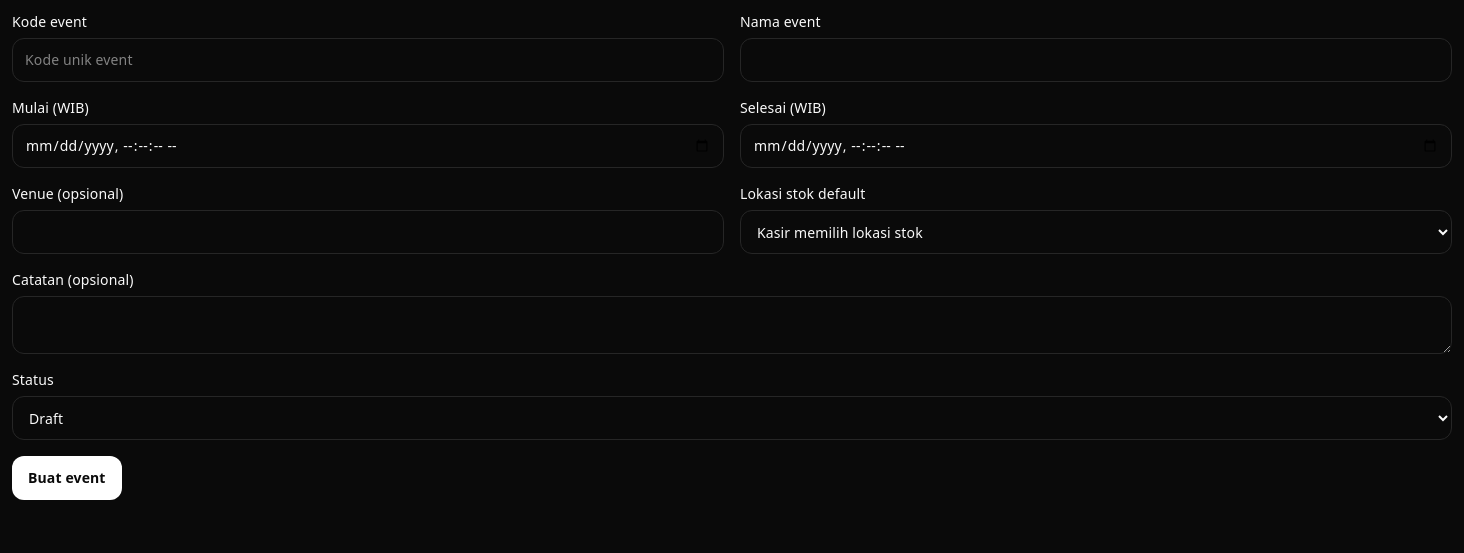
Test: sales event interfaces › creates an event and displays actual success feedback
Type "BAZAR" into the field labelled "Kode event" at (368, 60), box [12, 38, 724, 82]
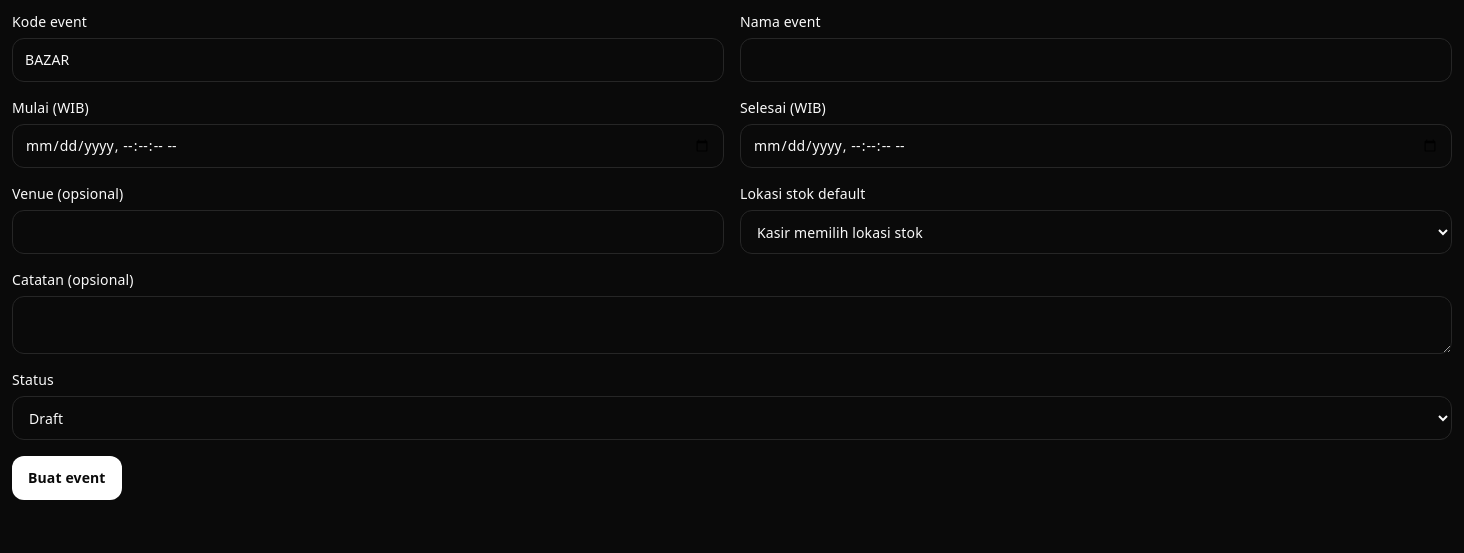
Type "Bazar Bandung" into the field labelled "Nama event" at (1096, 60), box [740, 38, 1452, 82]
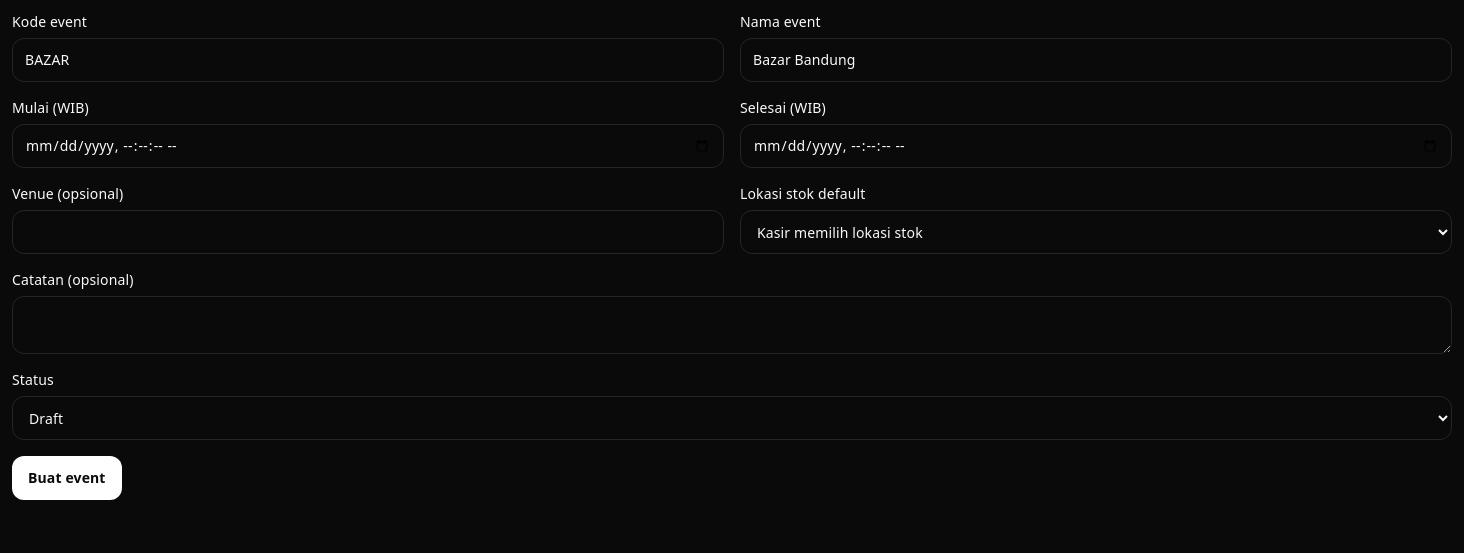
Type "2026-10-12T09:00" into the field labelled "Mulai (WIB)" at (368, 146), box [12, 124, 724, 168]
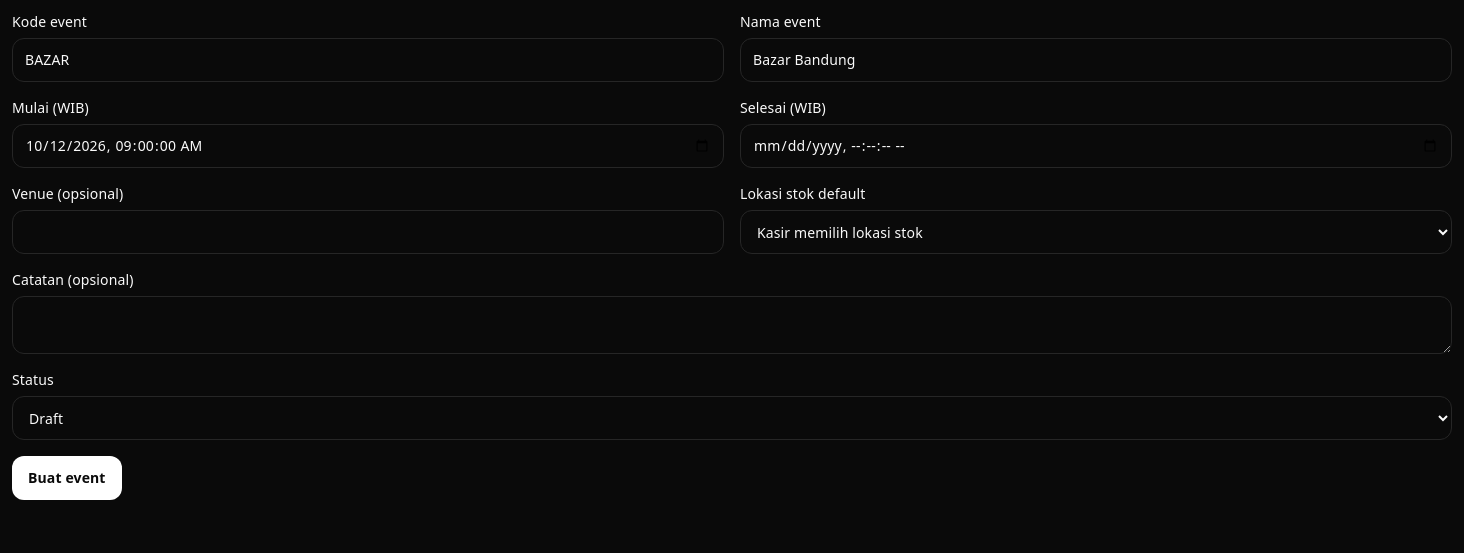
Type "2026-10-12T17:00" into the field labelled "Selesai (WIB)" at (1096, 146), box [740, 124, 1452, 168]
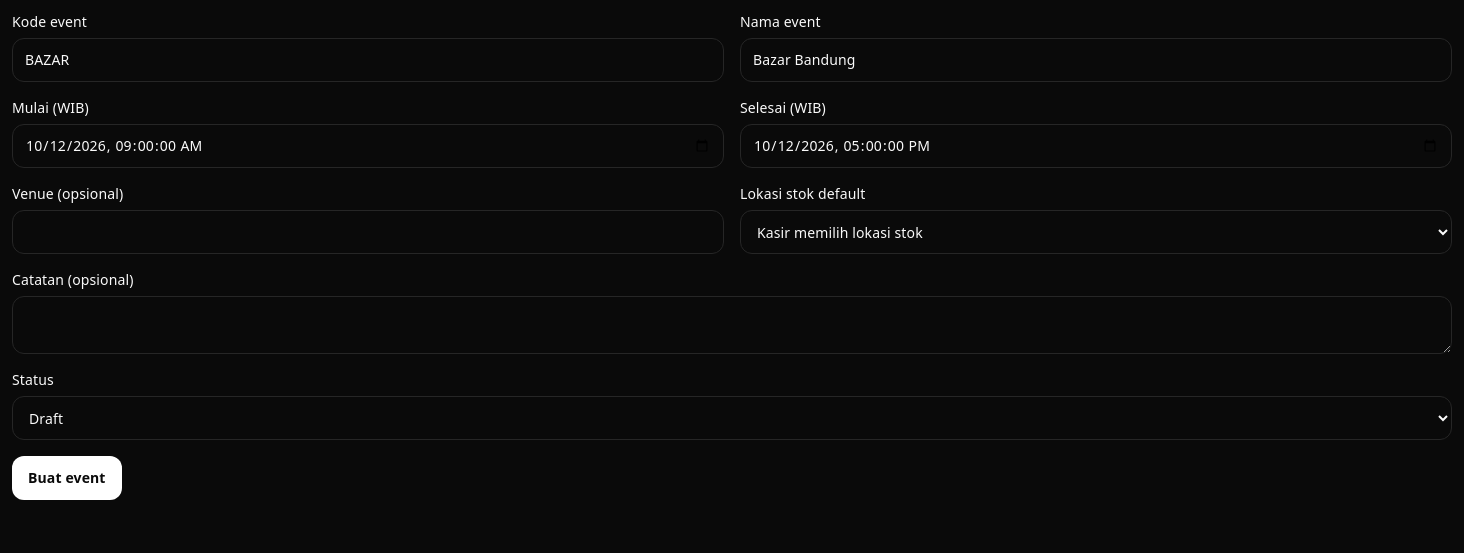
Click the button "Buat event" at (67, 478), box [12, 456, 122, 500]
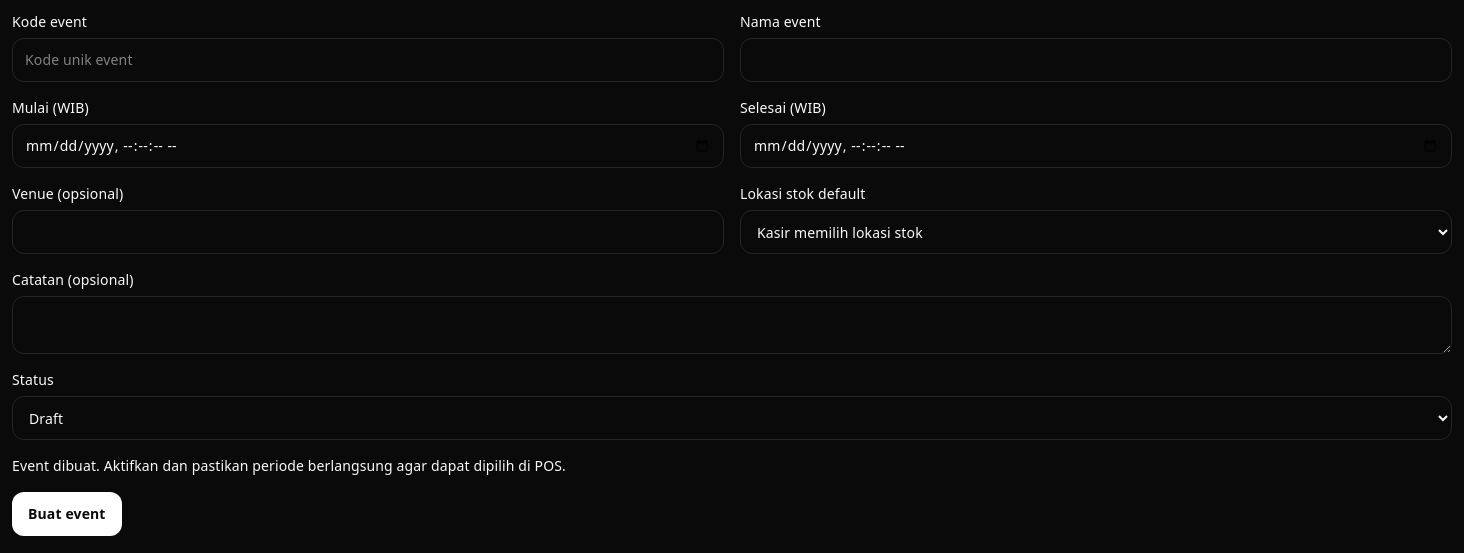
Now the message shows "Event dibuat", box [12, 456, 566, 475]
